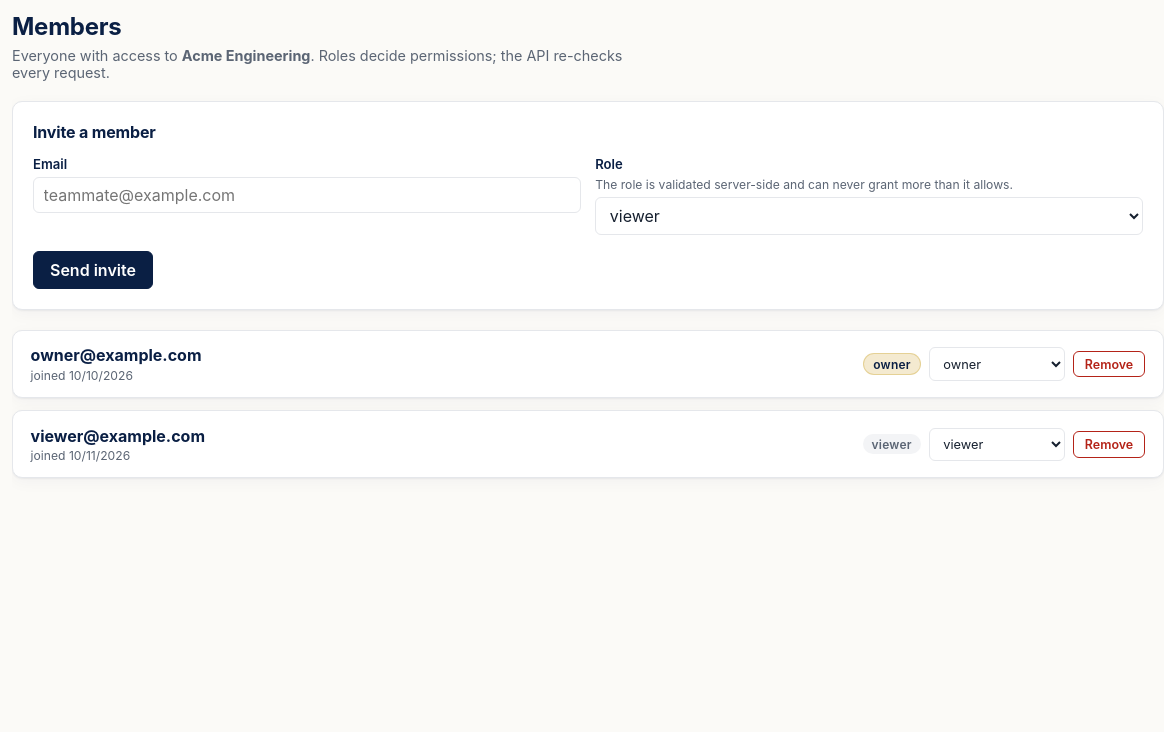
Test case: MembersView › explains a 409 when the last owner cannot be removed
Click the button with test id "remove-mem_owner" at (1109, 364), box [1073,351,1145,377]
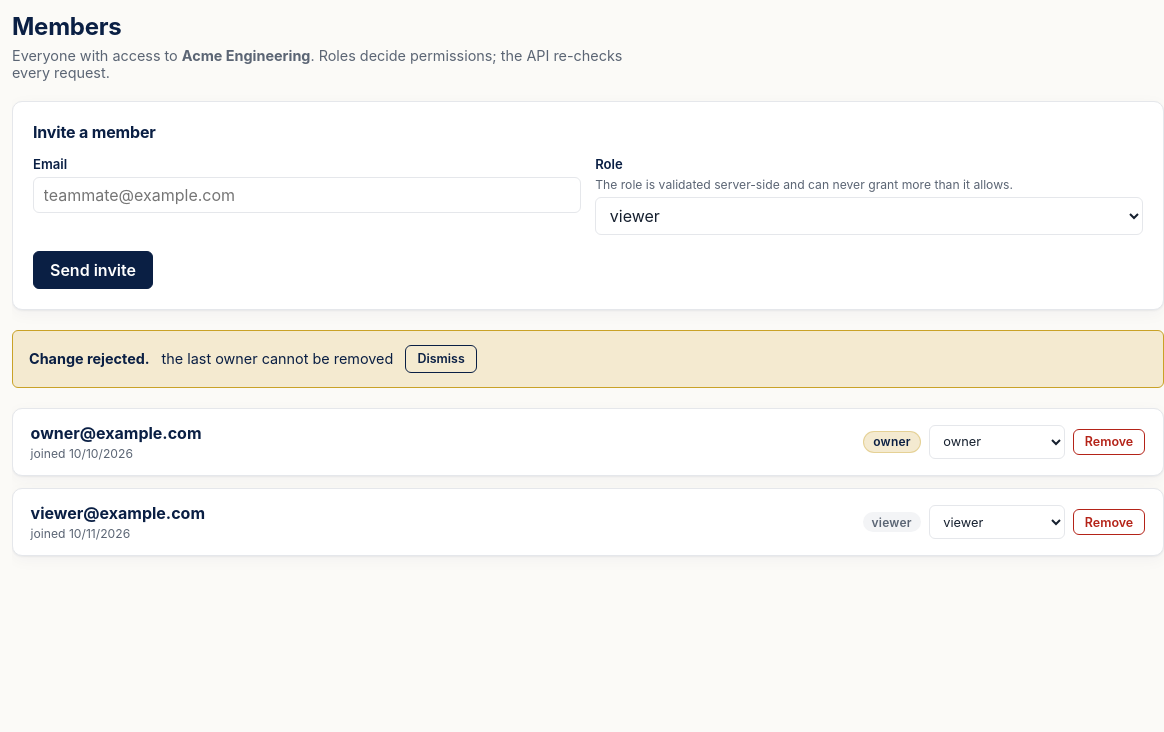
Expected: the list item with test id "member-mem_owner" is shown, [12,408,1163,476]
Now the element with test id "members-conflict" is shown, box [12,330,1163,388]
Now the element with test id "members-conflict" shows "the last owner cannot be removed", box [162,350,393,367]
